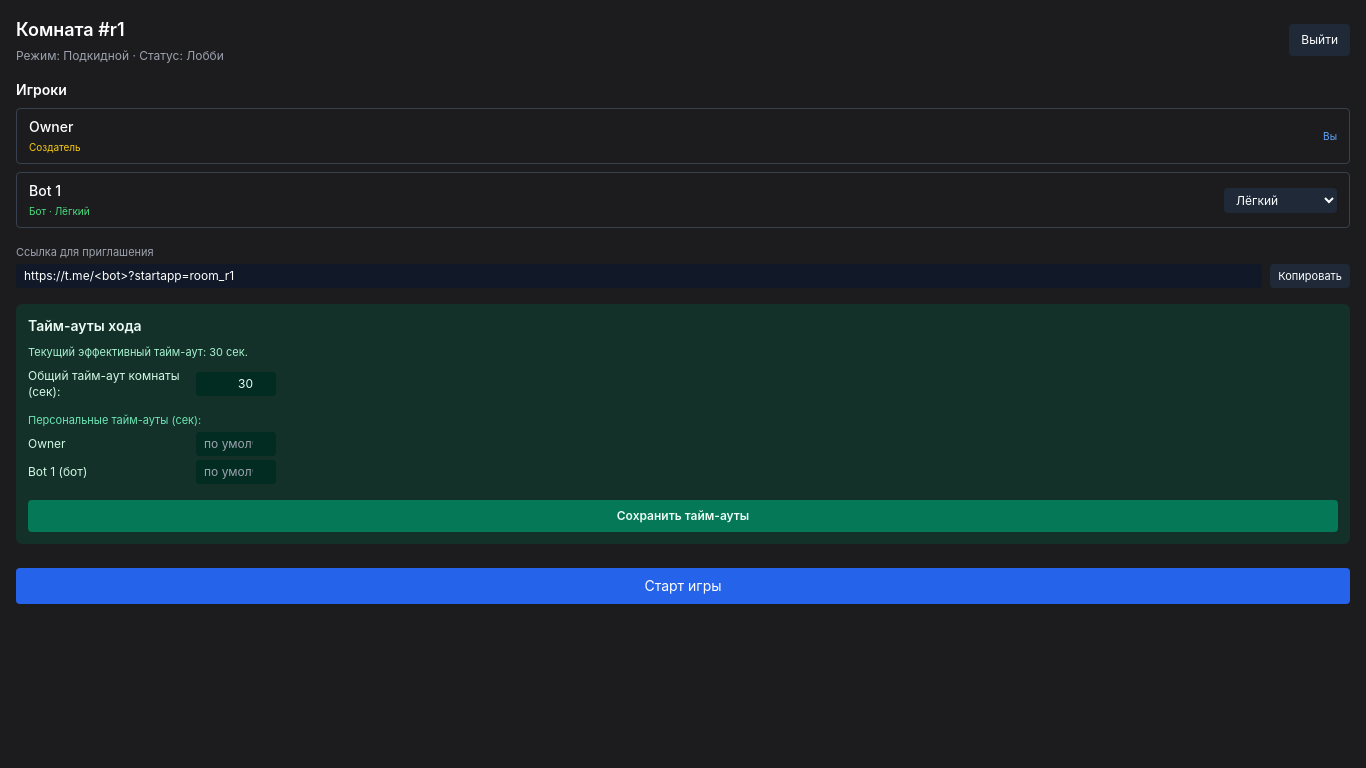
Test case: RoomPage timeout settings › shows bot difficulty and owner can change it
The image size is (1366, 768).
Expected: the text "Бот · Лёгкий" is shown, [29,205,90,217]
Select "Сложный" in the dropdown named "Сложность бота Bot 1" at [1280, 200], box [1224,188,1337,212]
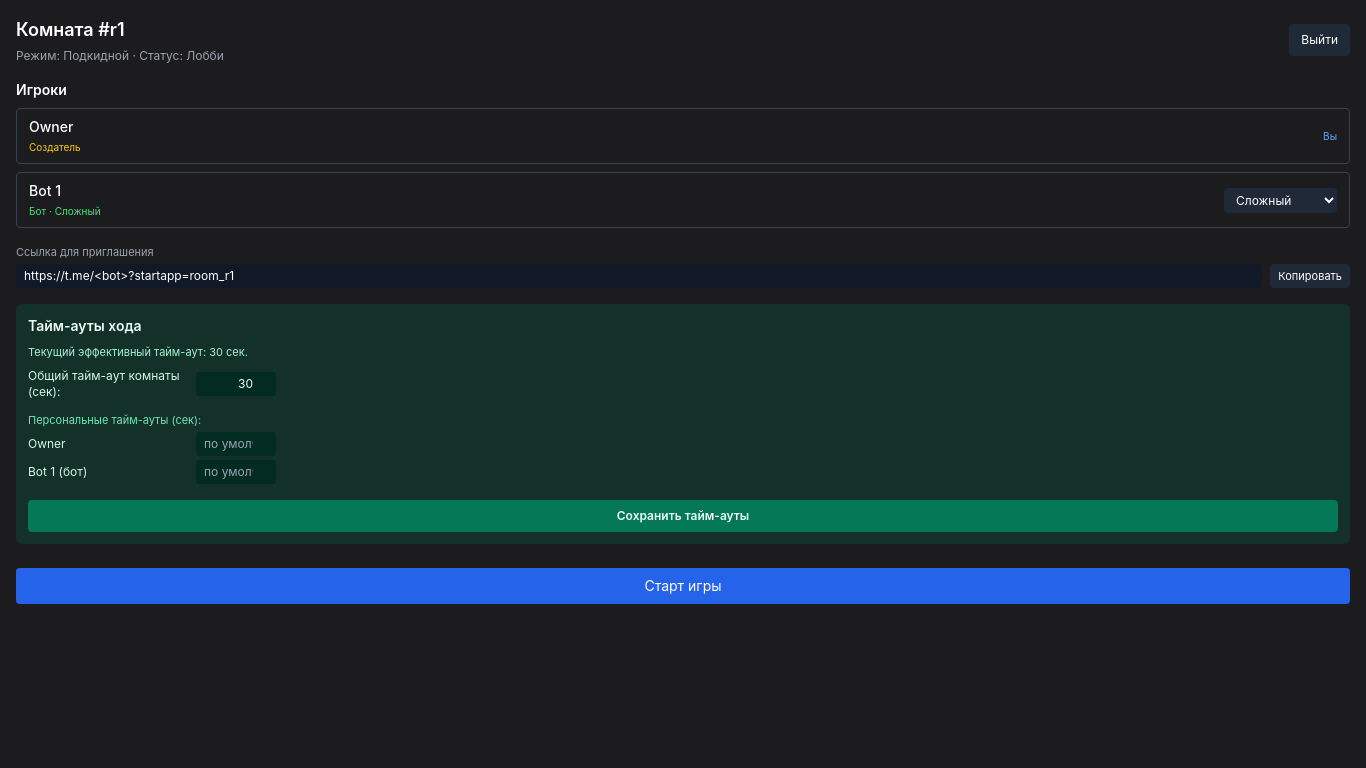
Expected: the text "Бот · Сложный" is shown, [29,205,101,217]
